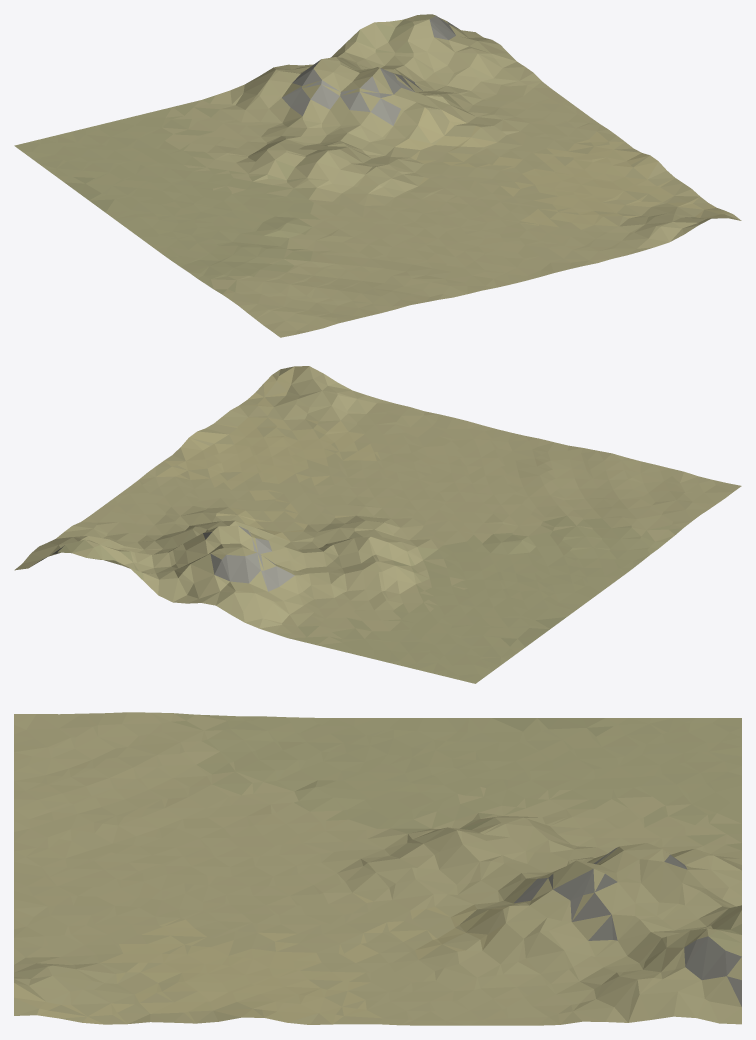
File: Ground_-2_-5.glb
The picture shows the model from 3 angles, top to bottom: view 1: azimuth 30°, elevation 25°; view 2: azimuth 150°, elevation 25°; view 3: azimuth 270°, elevation 25°; orthographic projection. The views are drawn at different scales.
Parts seen in each view (by area): view 1: Ground_-2_-5; view 2: Ground_-2_-5; view 3: Ground_-2_-5.
Boxes of the visible parts, <box> form: Ground_-2_-5: <box>14,14,741,337</box>; Ground_-2_-5: <box>14,366,741,683</box>; Ground_-2_-5: <box>14,712,741,1025</box>.
Size of the model in its own units: 768 by 66.28 by 768.
